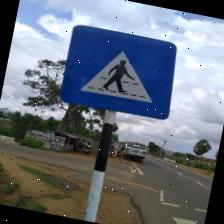blueboard: (56, 22, 184, 124)
crossing: (162, 200, 207, 224)
